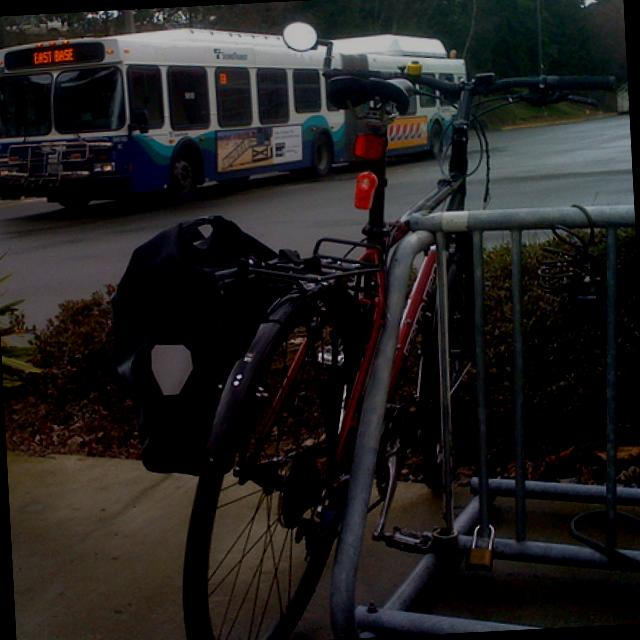Vehicle: (0, 1, 485, 203)
